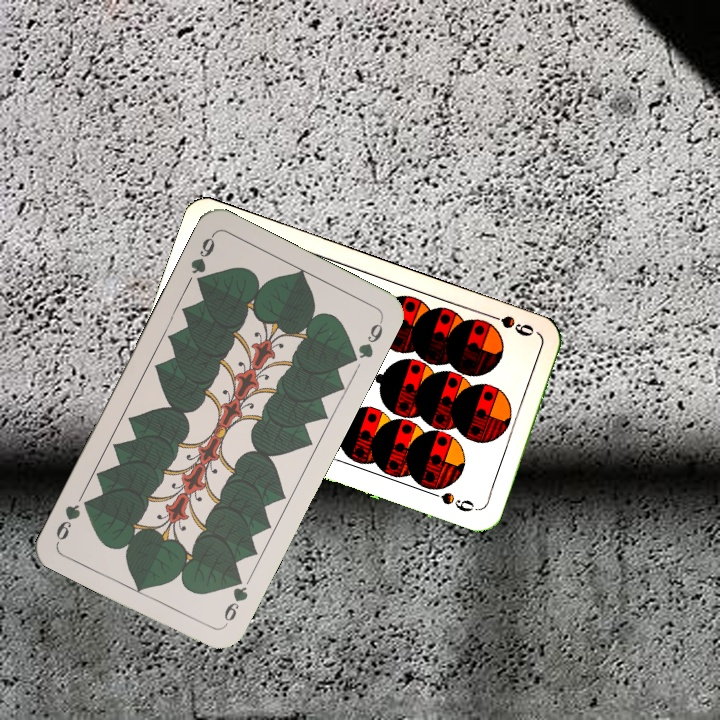G9: (186, 230, 218, 290), (219, 570, 251, 629)
S9: (480, 309, 540, 339)
